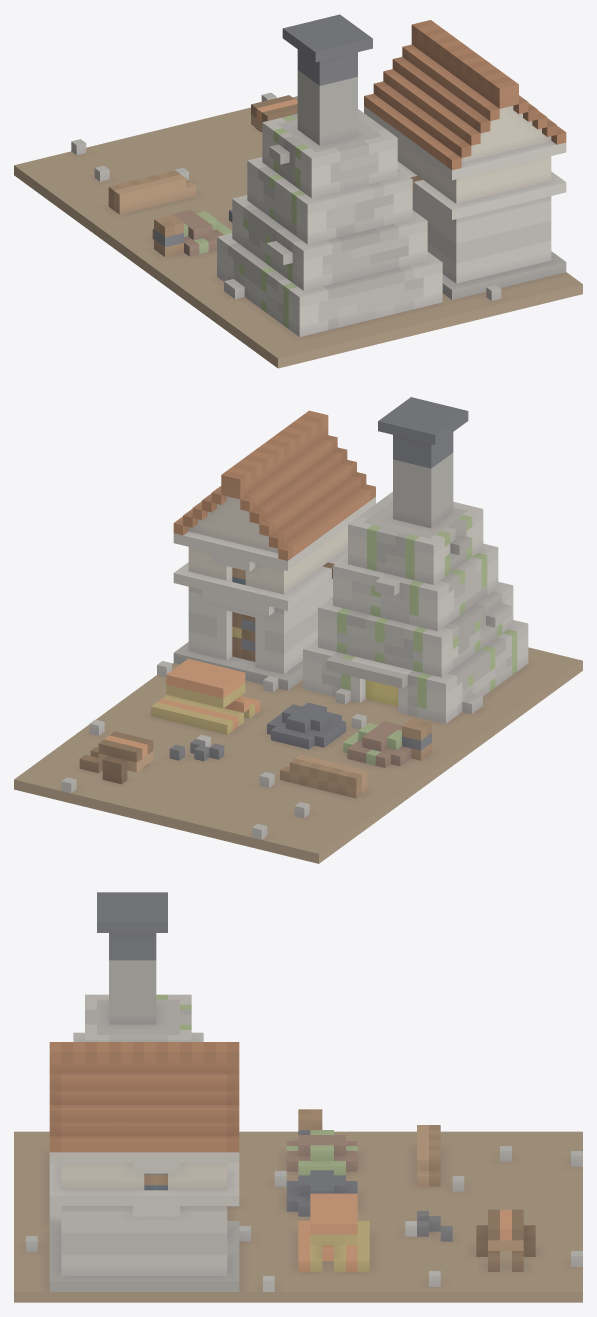
Rendered from copper_smelter.glb.
3 views of the same model, one above another, from view 1: azimuth 30°, elevation 25°; view 2: azimuth 150°, elevation 25°; view 3: azimuth 270°, elevation 25° (orthographic). The views are drawn at different scales.
Parts seen in each view (by area): view 1: copper_smelter; view 2: copper_smelter; view 3: copper_smelter.
Boxes of the visible parts, x1,y1,x2,y2 form: copper_smelter: [14, 14, 582, 368]; copper_smelter: [14, 397, 582, 863]; copper_smelter: [14, 892, 582, 1302].
Bounding box in the file's own units: 4 × 3.38 × 6.
